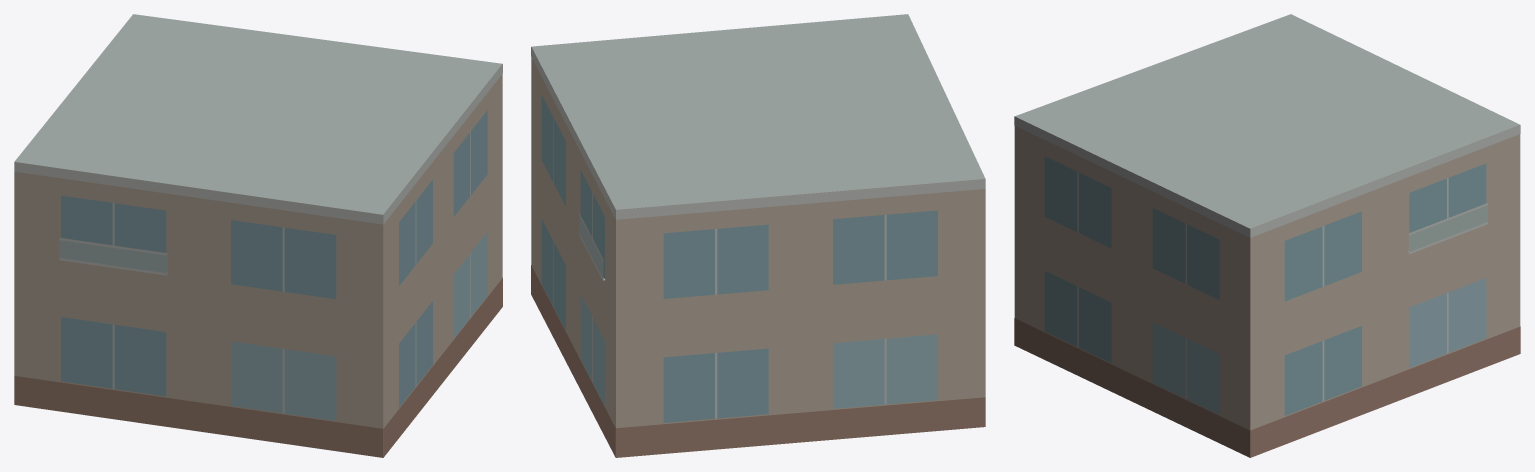
File: survey-upis-32894432.glb
The picture shows the model from 3 angles, left to right: view 1: azimuth 30°, elevation 25°; view 2: azimuth 150°, elevation 25°; view 3: azimuth 270°, elevation 25°; orthographic projection. The views are drawn at different scales.
Visible parts, largest first — view 1: survey-upis-32894432.tmp; view 2: survey-upis-32894432.tmp; view 3: survey-upis-32894432.tmp.
Boxes of the visible parts, box(x1,y1,x2,y2) form: survey-upis-32894432.tmp: box(14, 14, 502, 457); survey-upis-32894432.tmp: box(531, 14, 985, 457); survey-upis-32894432.tmp: box(1014, 14, 1520, 457).
Size of the model in its own units: 12.27 by 6.1 by 12.21.
